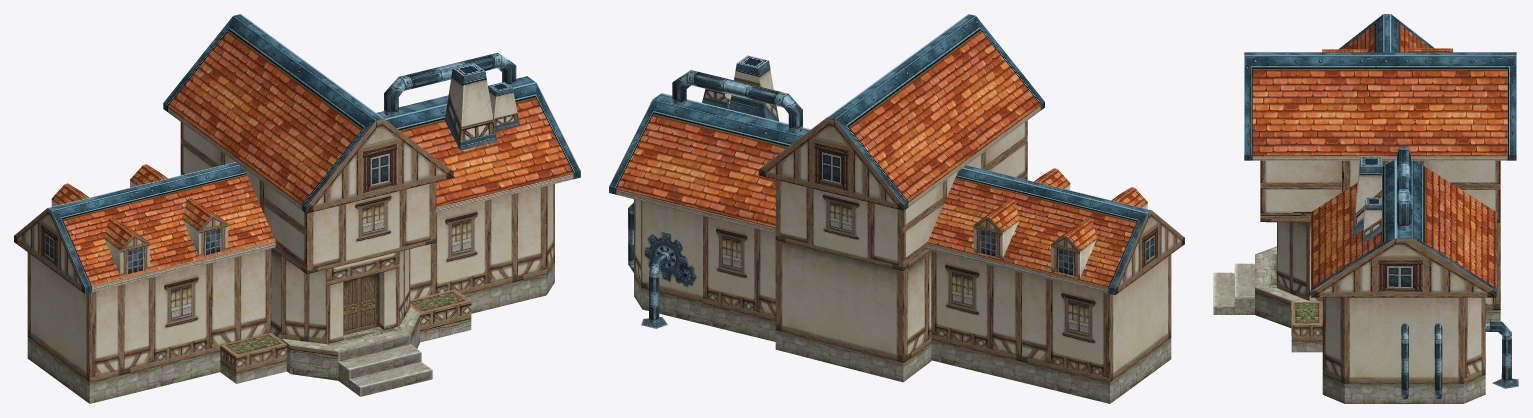
3 views of the same model, side by side, from view 1: azimuth 30°, elevation 25°; view 2: azimuth 150°, elevation 25°; view 3: azimuth 270°, elevation 25° (orthographic). The views are drawn at different scales.
Visible parts, largest first — view 1: geom_node_1, geom_node_0, geom_node_2; view 2: geom_node_1, geom_node_0, geom_node_2; view 3: geom_node_1, geom_node_2, geom_node_0.
Boxes of the visible parts, <box> form: geom_node_1: <box>163,14,453,396</box>; geom_node_0: <box>14,162,290,403</box>; geom_node_2: <box>376,52,580,342</box>; geom_node_1: <box>758,14,1044,382</box>; geom_node_0: <box>927,165,1184,403</box>; geom_node_2: <box>609,55,810,341</box>; geom_node_1: <box>1213,52,1516,327</box>; geom_node_2: <box>1291,146,1518,403</box>; geom_node_0: <box>1322,14,1452,52</box>.
Size of the model in its own units: 15.86 by 7.81 by 8.79.
Materials: 12 (12 with a texture image).
